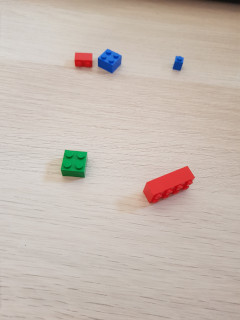1x1 blue: (172, 56, 185, 72)
1x2 red: (74, 51, 94, 68)
2x2 blue: (97, 49, 123, 74)
2x2 green: (61, 150, 89, 178)
2x4 red: (142, 165, 195, 205)
